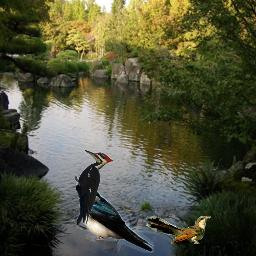Cuckoo: (146, 216, 211, 244)
Swallow: (80, 187, 154, 253)
Woodpecker: (75, 149, 115, 225)
